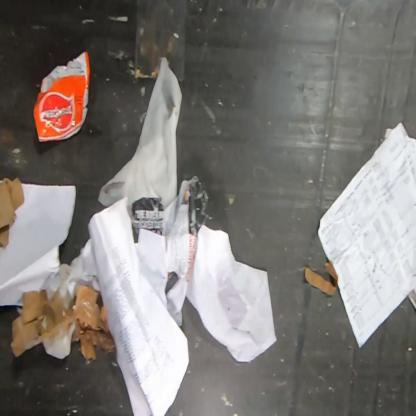cardboard: (11, 284, 117, 360), (0, 176, 25, 249)
rigid_plastic: (134, 0, 189, 85)
soft_plastic: (33, 51, 90, 142)
